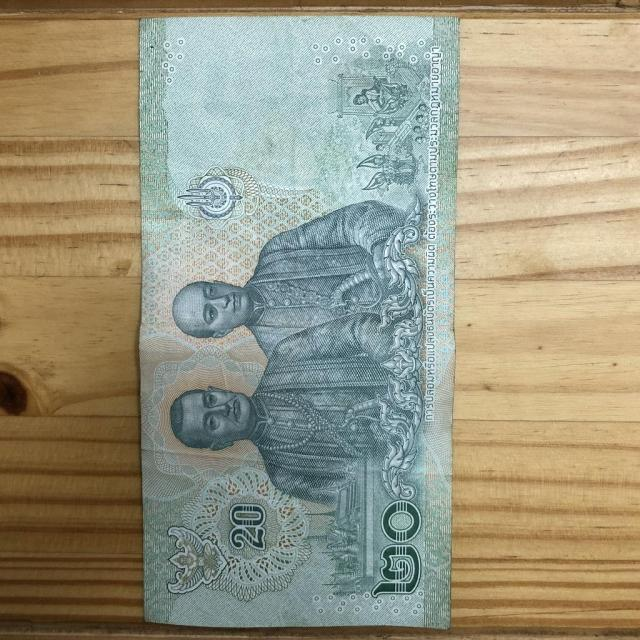THAI20: (139, 16, 458, 628)
